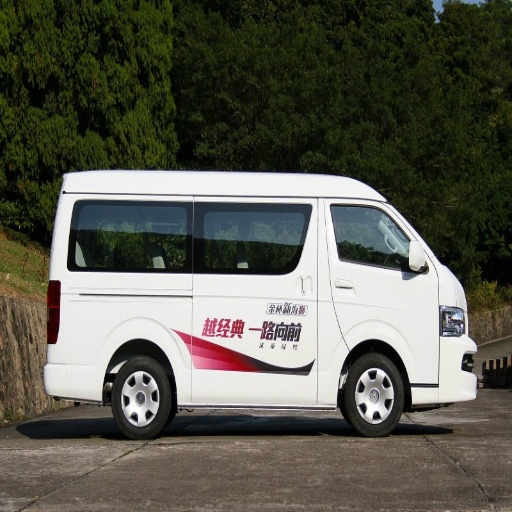trunk: (54, 275, 215, 397), (293, 297, 451, 391)
